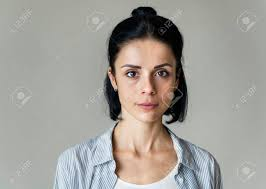white_female: (107, 35, 193, 126)
